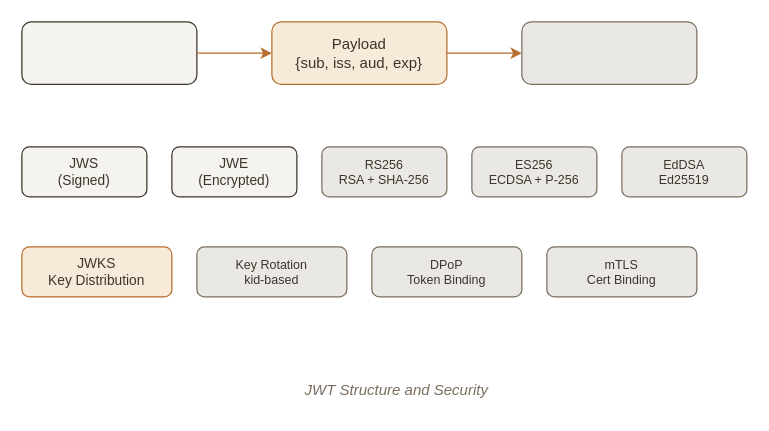
This 769x431 diagram has some shape labels left out. Each missing label, with the centre of its shape:
"Header {alg, typ, kid}" goes at (x=109, y=52).
"Signature HMAC/RSA/ECDSA" goes at (x=609, y=52).
